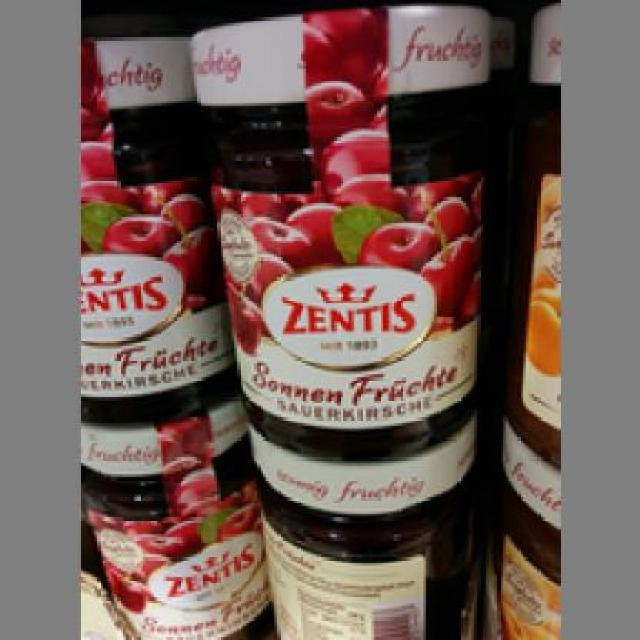Jam: (184, 0, 489, 455), (77, 0, 234, 417), (242, 420, 478, 637), (77, 402, 263, 635)
